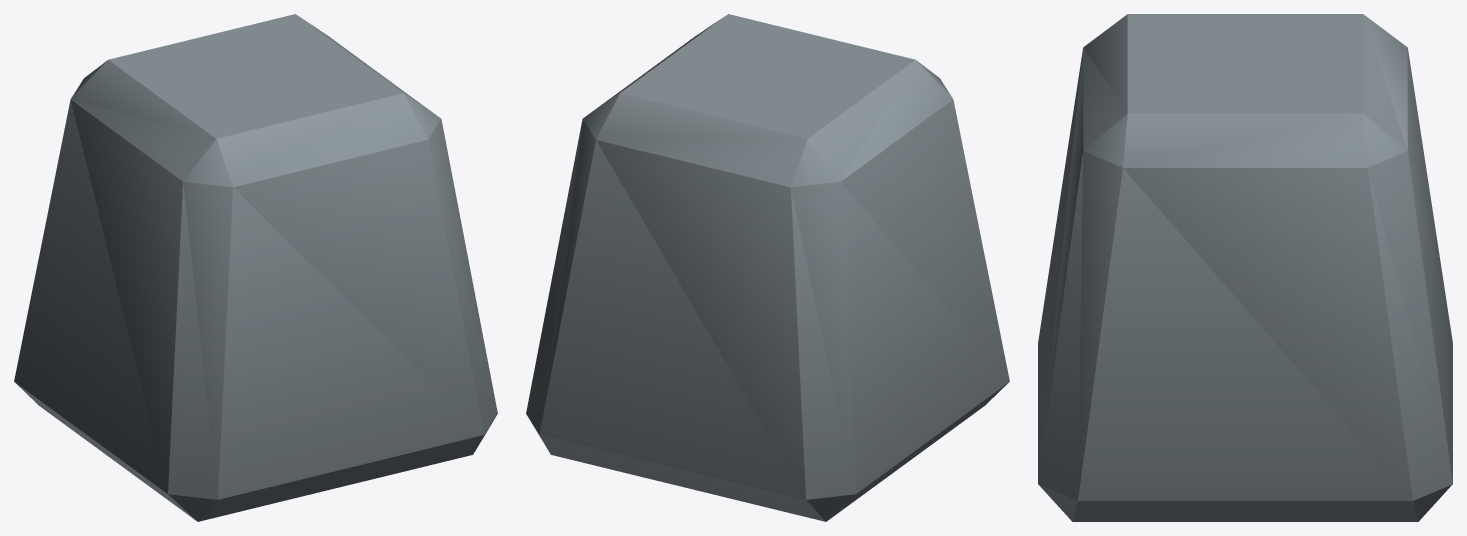
Rendered from kf_rock_2_b.fbx.
The picture shows the model from 3 angles, left to right: view 1: azimuth 30°, elevation 25°; view 2: azimuth 150°, elevation 25°; view 3: azimuth 270°, elevation 25°; orthographic projection. The views are drawn at different scales.
Visible parts, largest first — view 1: kf_rock_2_b; view 2: kf_rock_2_b; view 3: kf_rock_2_b.
Boxes of the visible parts, x1,y1,x2,y2 form: kf_rock_2_b: (14, 14, 497, 521); kf_rock_2_b: (526, 14, 1009, 521); kf_rock_2_b: (1038, 14, 1452, 521).
Size of the model in its own units: 1.51 by 1.55 by 1.51.
1 material, 1 textured.
